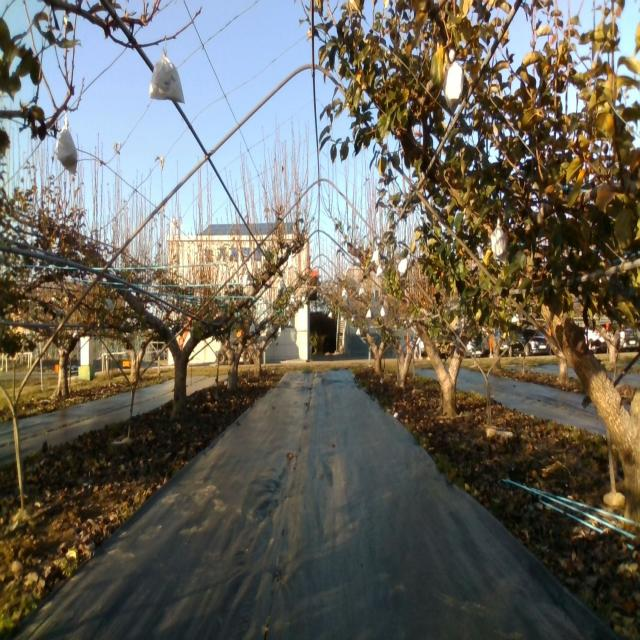pearbags: (147, 44, 185, 108), (56, 114, 78, 175), (444, 62, 464, 111), (490, 227, 507, 266)
